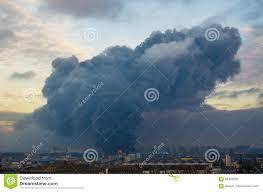smoke: (38, 27, 244, 112)
